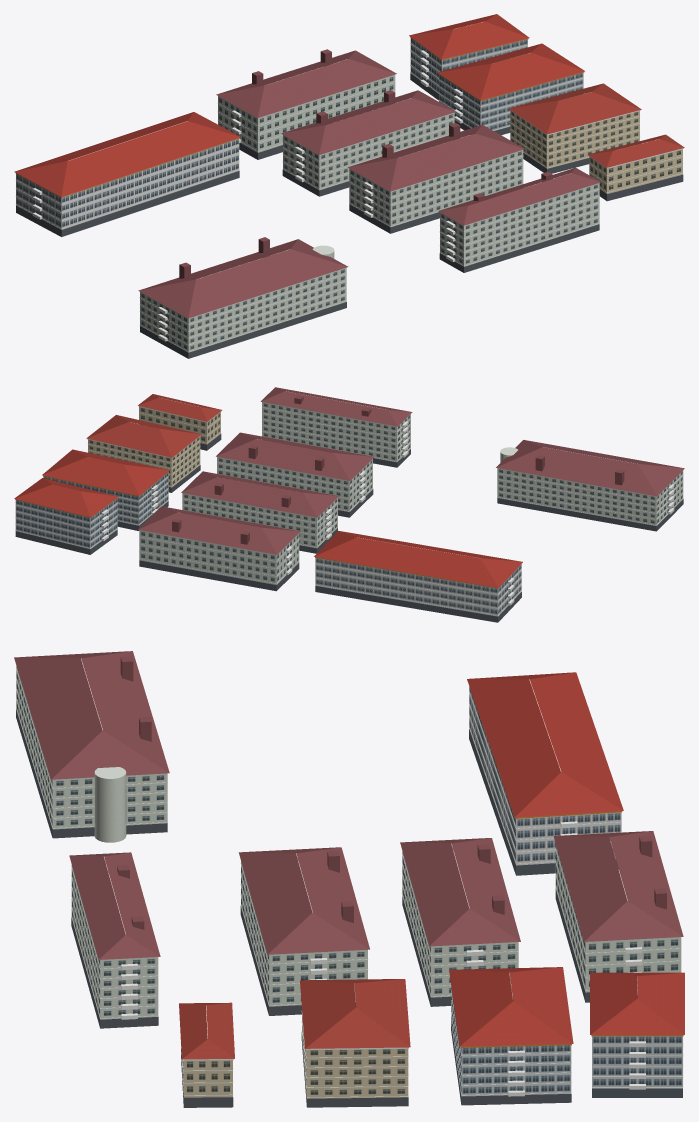
Rendered from dorm_qinyuan_e4.glb.
3 renders of one model, top to bottom at view 1: azimuth 30°, elevation 25°; view 2: azimuth 150°, elevation 25°; view 3: azimuth 270°, elevation 25°, orthographic. The views are drawn at different scales.
Parts seen in each view (by area): view 1: 1316148868, 862959358, 1316148865, 862959355, 1316148867, 1316148866, 862959354, 862959353, 862959352, 1316307762; view 2: 1316148868, 862959358, 1316148867, 862959355, 1316148865, 1316148866, 862959352, 862959353, 862959354, 1316307762; view 3: 862959358, 1316148868, 1316148865, 862959353, 1316148867, 1316148866, 862959354, 862959355, 862959352, 1316307762.
Part boxes in pixels (x1=…): 1316148868: x1=14, y1=112, x2=240, y2=236; 862959358: x1=138, y1=237, x2=348, y2=358; 1316148865: x1=347, y1=123, x2=524, y2=233; 862959355: x1=438, y1=167, x2=600, y2=272; 1316148867: x1=216, y1=49, x2=396, y2=159; 1316148866: x1=281, y1=90, x2=455, y2=196; 862959354: x1=508, y1=83, x2=641, y2=173; 862959353: x1=437, y1=43, x2=584, y2=135; 862959352: x1=409, y1=14, x2=529, y2=100; 1316307762: x1=588, y1=134, x2=684, y2=201; 1316148868: x1=314, y1=531, x2=522, y2=622; 862959358: x1=496, y1=440, x2=684, y2=531; 1316148867: x1=138, y1=506, x2=300, y2=591; 862959355: x1=260, y1=387, x2=412, y2=467; 1316148865: x1=216, y1=432, x2=373, y2=517; 1316148866: x1=181, y1=471, x2=339, y2=553; 862959352: x1=14, y1=478, x2=118, y2=554; 862959353: x1=42, y1=449, x2=169, y2=530; 862959354: x1=86, y1=415, x2=201, y2=492; 1316307762: x1=138, y1=394, x2=222, y2=450; 862959358: x1=14, y1=651, x2=169, y2=842; 1316148868: x1=467, y1=672, x2=623, y2=875; 1316148865: x1=238, y1=847, x2=369, y2=1015; 862959353: x1=449, y1=967, x2=573, y2=1105; 1316148867: x1=553, y1=831, x2=683, y2=1002; 1316148866: x1=400, y1=838, x2=520, y2=1006; 862959354: x1=300, y1=979, x2=410, y2=1107; 862959355: x1=69, y1=852, x2=160, y2=1028; 862959352: x1=590, y1=972, x2=684, y2=1097; 1316307762: x1=179, y1=1002, x2=234, y2=1107.
Bounding box in the file's own units: 249 × 24.28 × 177.
Materials: 4 (3 with a texture image).
